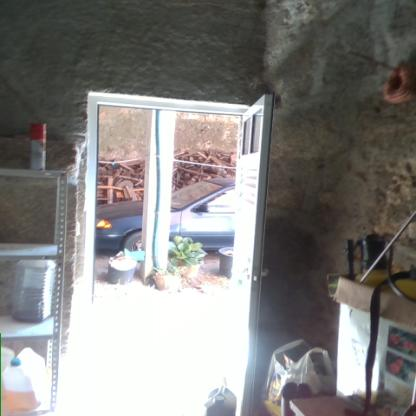open: (72, 84, 279, 416)
